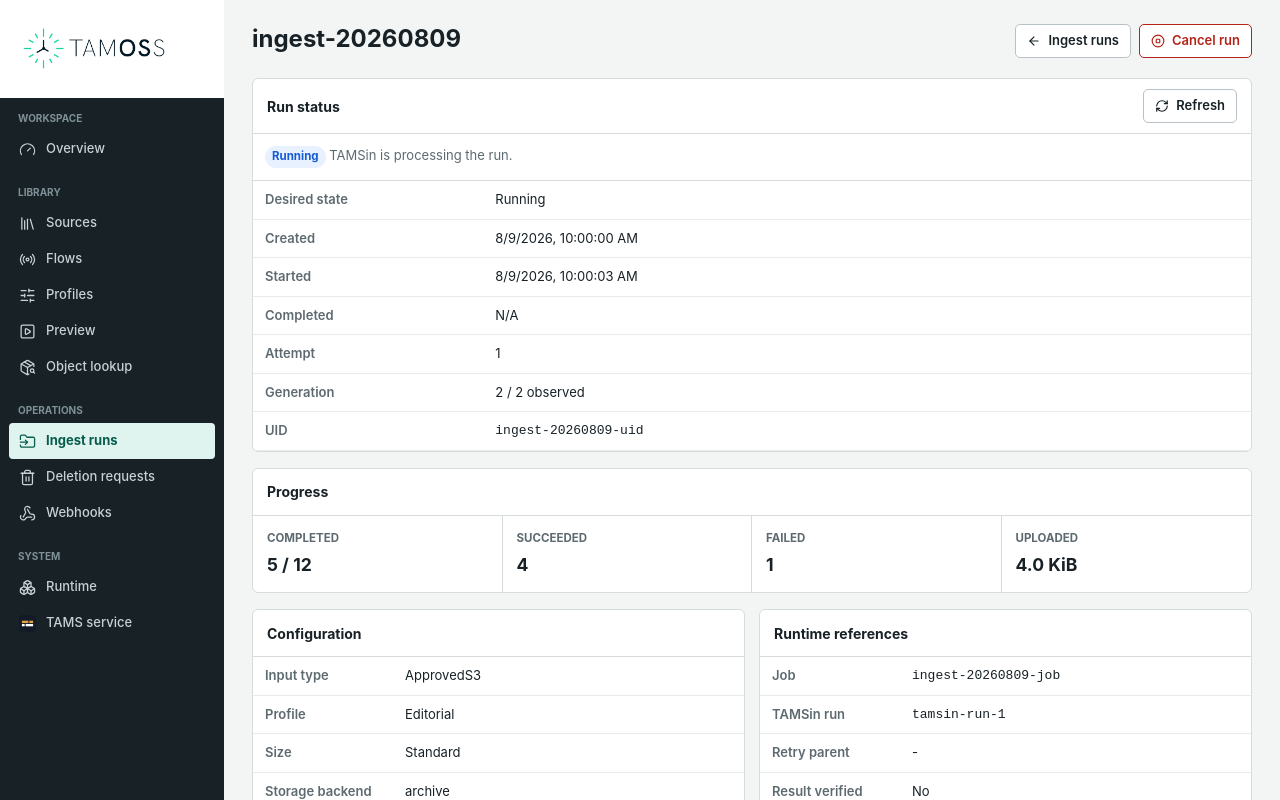
Test: operational routes › requires operator capability and confirmation for one-way cancellation
Click the button "Cancel run" at (1196, 41), box [1139,24,1252,58]
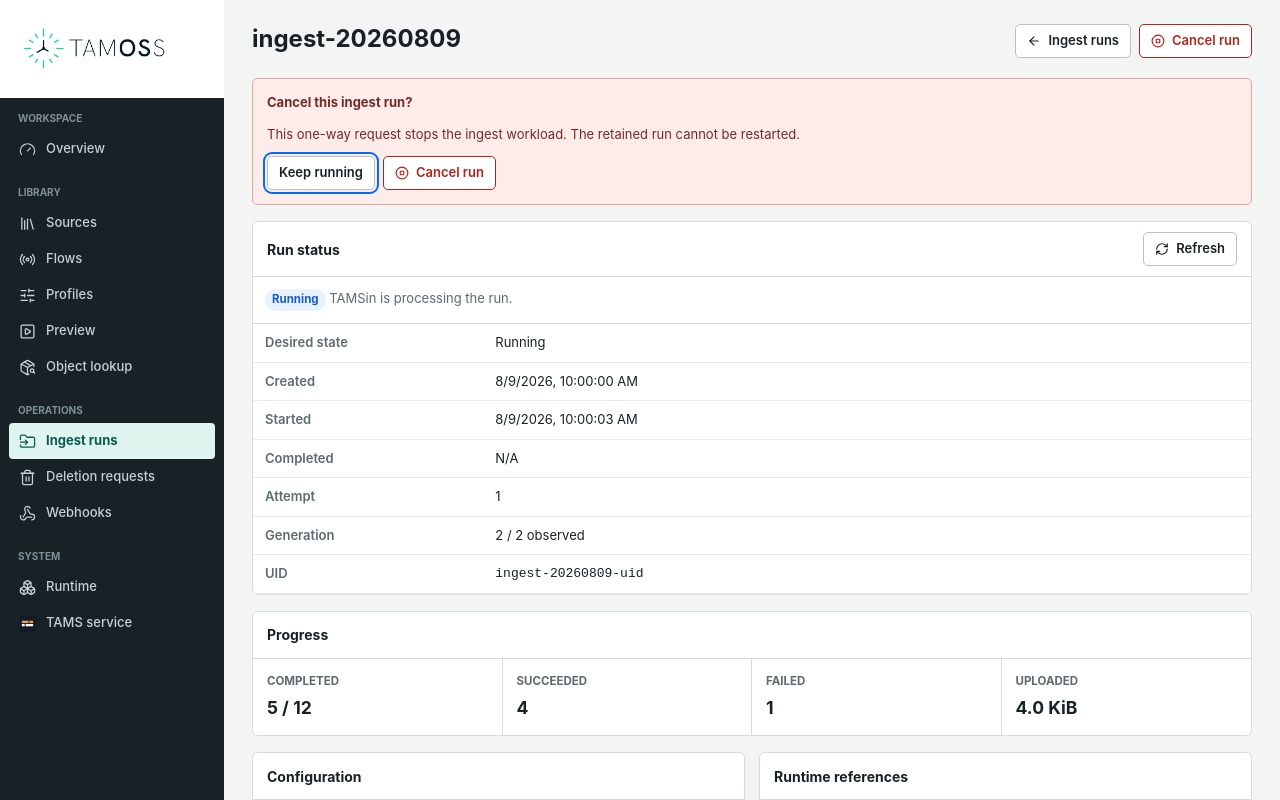
Click the button "Cancel run" below "Cancel this ingest run?" at (439, 173), box [383,156,496,190]
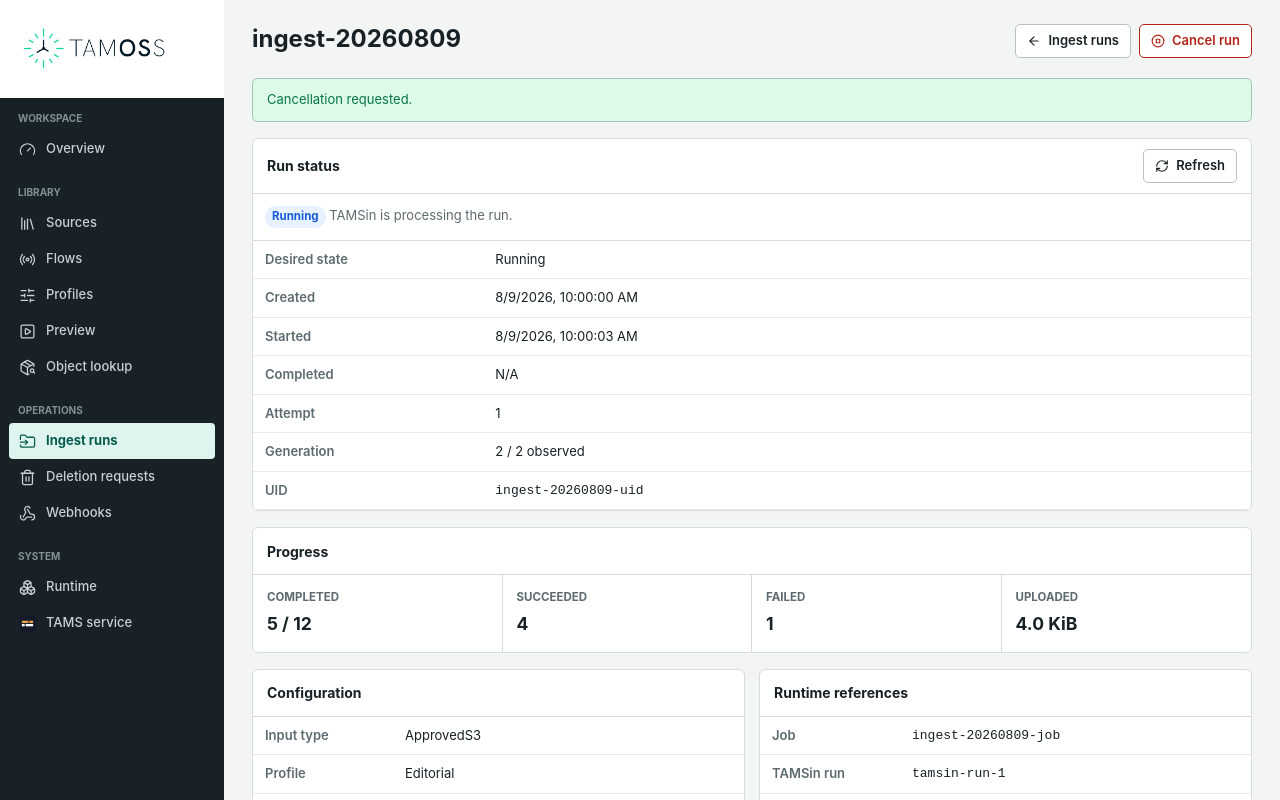
Now the text "Cancellation requested." is shown, box [252,78,1252,122]
